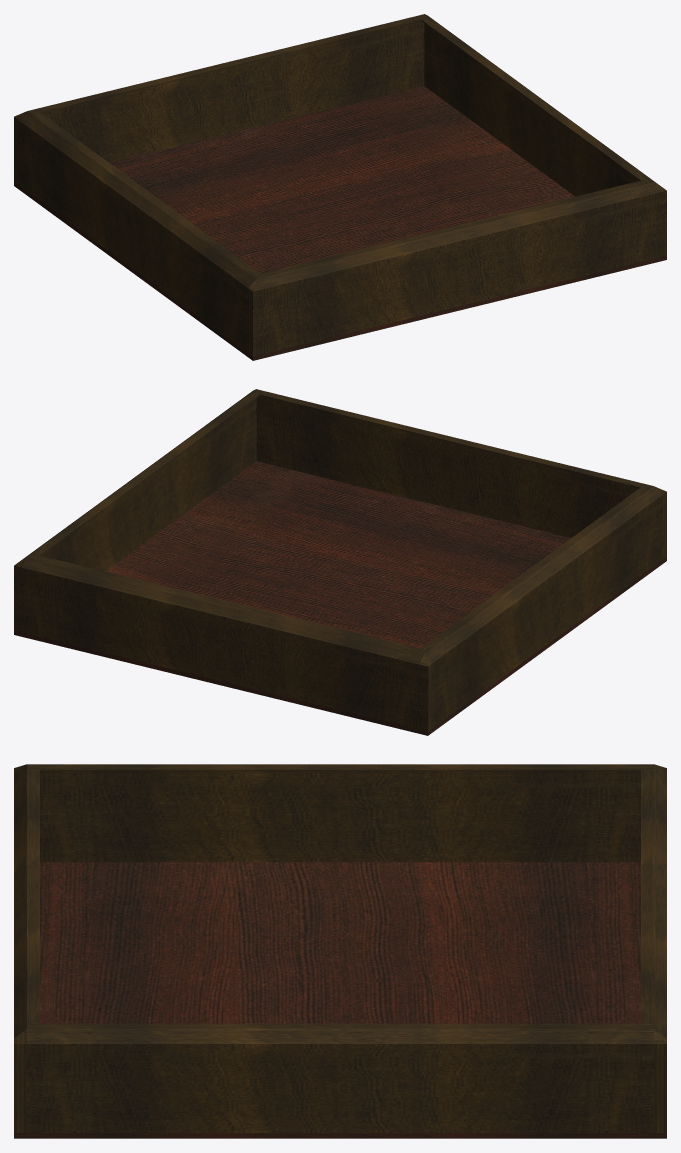
File: flatcrate.obj
3 renders of one model, top to bottom at view 1: azimuth 30°, elevation 25°; view 2: azimuth 150°, elevation 25°; view 3: azimuth 270°, elevation 25°, orthographic. The views are drawn at different scales.
Visible parts, largest first — view 1: Cube_Cube.001, Cube.001_Cube.002, Cube.002_Cube.003, Cube.004_Cube.005, Cube.003_Cube.004, Cube.008, Cube.006, Cube.015_Cube.014, Cube.014_Cube.013, Cube.016_Cube.015, Cube.013_Cube.012, Cube.007; view 2: Cube_Cube.001, Cube.002_Cube.003, Cube.001_Cube.002, Cube.004_Cube.005, Cube.003_Cube.004, Cube.007, Cube.006, Cube.016_Cube.015, Cube.014_Cube.013, Cube.015_Cube.014, Cube.013_Cube.012, Cube.008; view 3: Cube_Cube.001, Cube.003_Cube.004, Cube.004_Cube.005, Cube.005_Cube.000, Cube.013_Cube.012, Cube.014_Cube.013, Cube.007, Cube.008, Cube.015_Cube.014, Cube.016_Cube.015, Cube.006, Cube.001_Cube.002 (+1 smaller).
Boxes of the visible parts, x1,y1,x2,y2 form: Cube_Cube.001: [14, 86, 666, 360]; Cube.001_Cube.002: [248, 190, 666, 356]; Cube.002_Cube.003: [14, 22, 424, 184]; Cube.004_Cube.005: [18, 120, 248, 352]; Cube.003_Cube.004: [424, 23, 638, 196]; Cube.008: [257, 182, 658, 289]; Cube.006: [19, 111, 256, 287]; Cube.015_Cube.014: [36, 16, 421, 113]; Cube.014_Cube.013: [417, 14, 653, 183]; Cube.016_Cube.015: [260, 180, 645, 276]; Cube.013_Cube.012: [27, 109, 264, 278]; Cube.007: [42, 21, 421, 114]; Cube_Cube.001: [14, 461, 666, 735]; Cube.002_Cube.003: [14, 565, 432, 731]; Cube.001_Cube.002: [256, 397, 666, 559]; Cube.004_Cube.005: [432, 495, 662, 727]; Cube.003_Cube.004: [42, 398, 256, 571]; Cube.007: [22, 557, 423, 664]; Cube.006: [424, 486, 661, 662]; Cube.016_Cube.015: [259, 391, 644, 488]; Cube.014_Cube.013: [27, 389, 263, 558]; Cube.015_Cube.014: [35, 555, 420, 651]; Cube.013_Cube.012: [416, 484, 653, 653]; Cube.008: [259, 396, 638, 488]; Cube_Cube.001: [14, 862, 666, 1138]; Cube.003_Cube.004: [27, 1044, 653, 1132]; Cube.004_Cube.005: [40, 773, 640, 862]; Cube.005_Cube.000: [27, 1029, 654, 1043]; Cube.013_Cube.012: [27, 764, 653, 771]; Cube.014_Cube.013: [27, 1023, 653, 1028]; Cube.007: [654, 764, 666, 1038]; Cube.008: [14, 764, 26, 1038]; Cube.015_Cube.014: [641, 769, 653, 1023]; Cube.016_Cube.015: [27, 769, 39, 1023]; Cube.006: [40, 771, 640, 773]; Cube.001_Cube.002: [14, 1044, 26, 1132].
Bounding box in the file's own units: 6 × 1.06 × 6.
